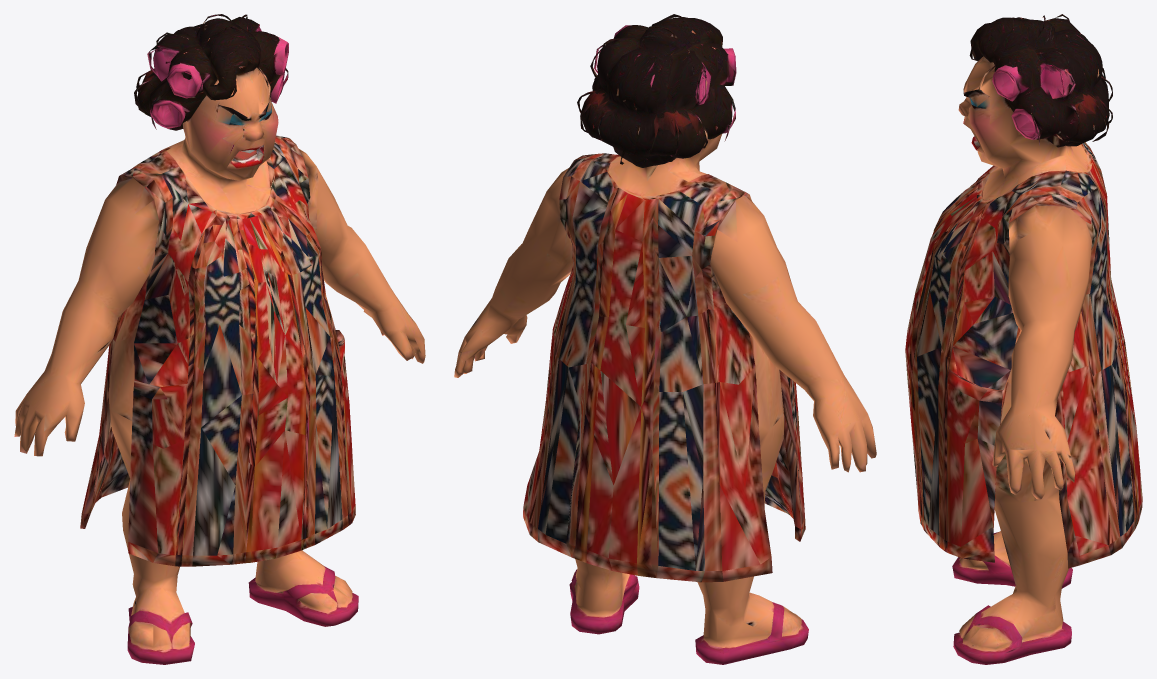
Rendered from nanay.glb.
The picture shows the model from 3 angles, left to right: view 1: azimuth 30°, elevation 25°; view 2: azimuth 150°, elevation 25°; view 3: azimuth 270°, elevation 25°; orthographic projection. The views are drawn at different scales.
Parts seen in each view (by area): view 1: Mesh0; view 2: Mesh0; view 3: Mesh0.
Part boxes in pixels (x1=…): Mesh0: x1=14, y1=14, x2=425, y2=664; Mesh0: x1=454, y1=14, x2=876, y2=664; Mesh0: x1=905, y1=14, x2=1142, y2=664.
Bounding box in the file's own units: 1.18 × 1.7 × 0.6156.
Materials: 1 (1 with a texture image).
